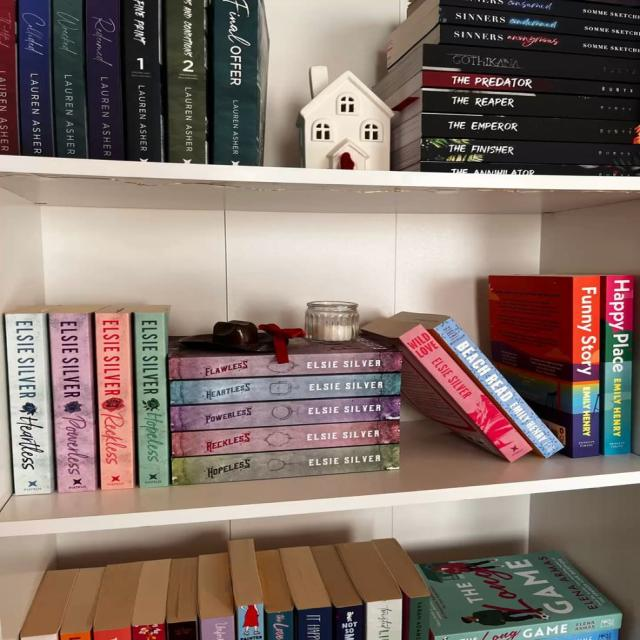book: (399, 325, 533, 463), (432, 318, 564, 457), (172, 444, 399, 485), (4, 314, 54, 493), (48, 313, 97, 493), (172, 420, 399, 457), (421, 45, 639, 83), (170, 397, 399, 432), (171, 373, 400, 405), (95, 312, 136, 489), (439, 5, 639, 40), (423, 89, 639, 121), (437, 24, 639, 58), (165, 0, 207, 163), (218, 0, 259, 165), (123, 0, 163, 161), (423, 114, 636, 144), (420, 138, 639, 167), (134, 312, 170, 488), (171, 352, 402, 379), (85, 0, 124, 159), (422, 71, 639, 98), (51, 0, 87, 157), (17, 0, 53, 156), (604, 276, 633, 455), (439, 0, 639, 24), (572, 277, 598, 455), (419, 162, 639, 176), (0, 0, 19, 155)
candle: (304, 301, 359, 341)
